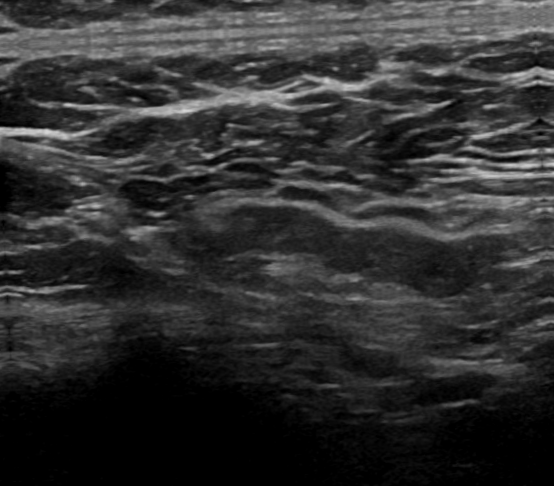Normal: (4, 14, 554, 456)
